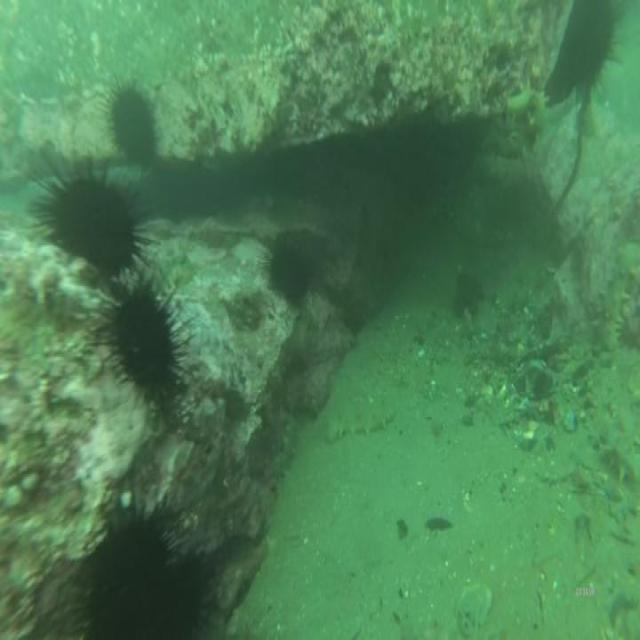echinus: (67, 477, 222, 640), (28, 146, 164, 284), (92, 269, 195, 425), (103, 71, 164, 164), (262, 234, 318, 316)
holothurian: (324, 396, 399, 448), (270, 408, 300, 490)
